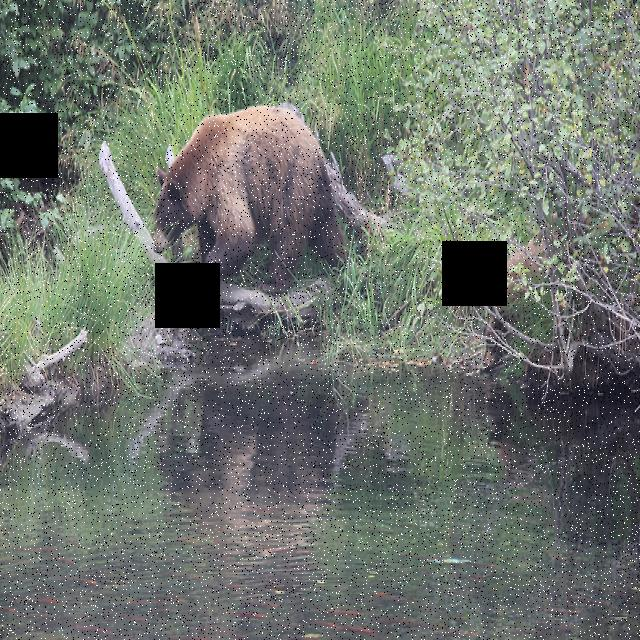Bear: (148, 103, 356, 298)
